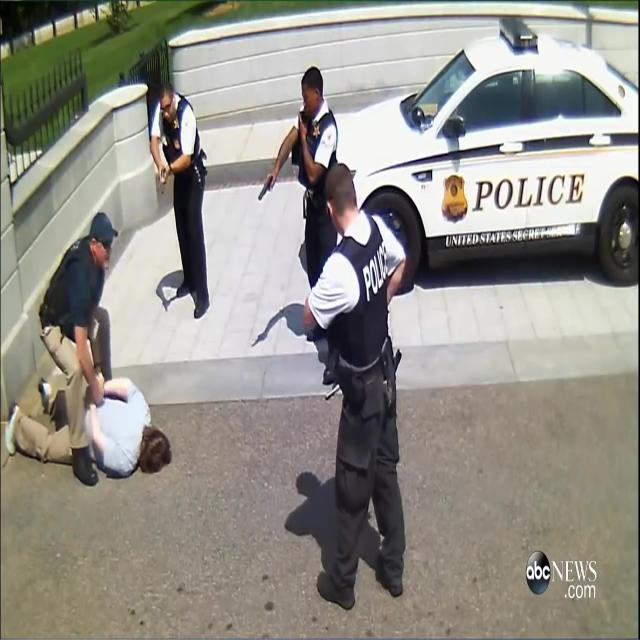Weapon: (384, 339, 412, 408), (248, 159, 280, 214), (158, 159, 180, 218), (91, 356, 117, 394)
